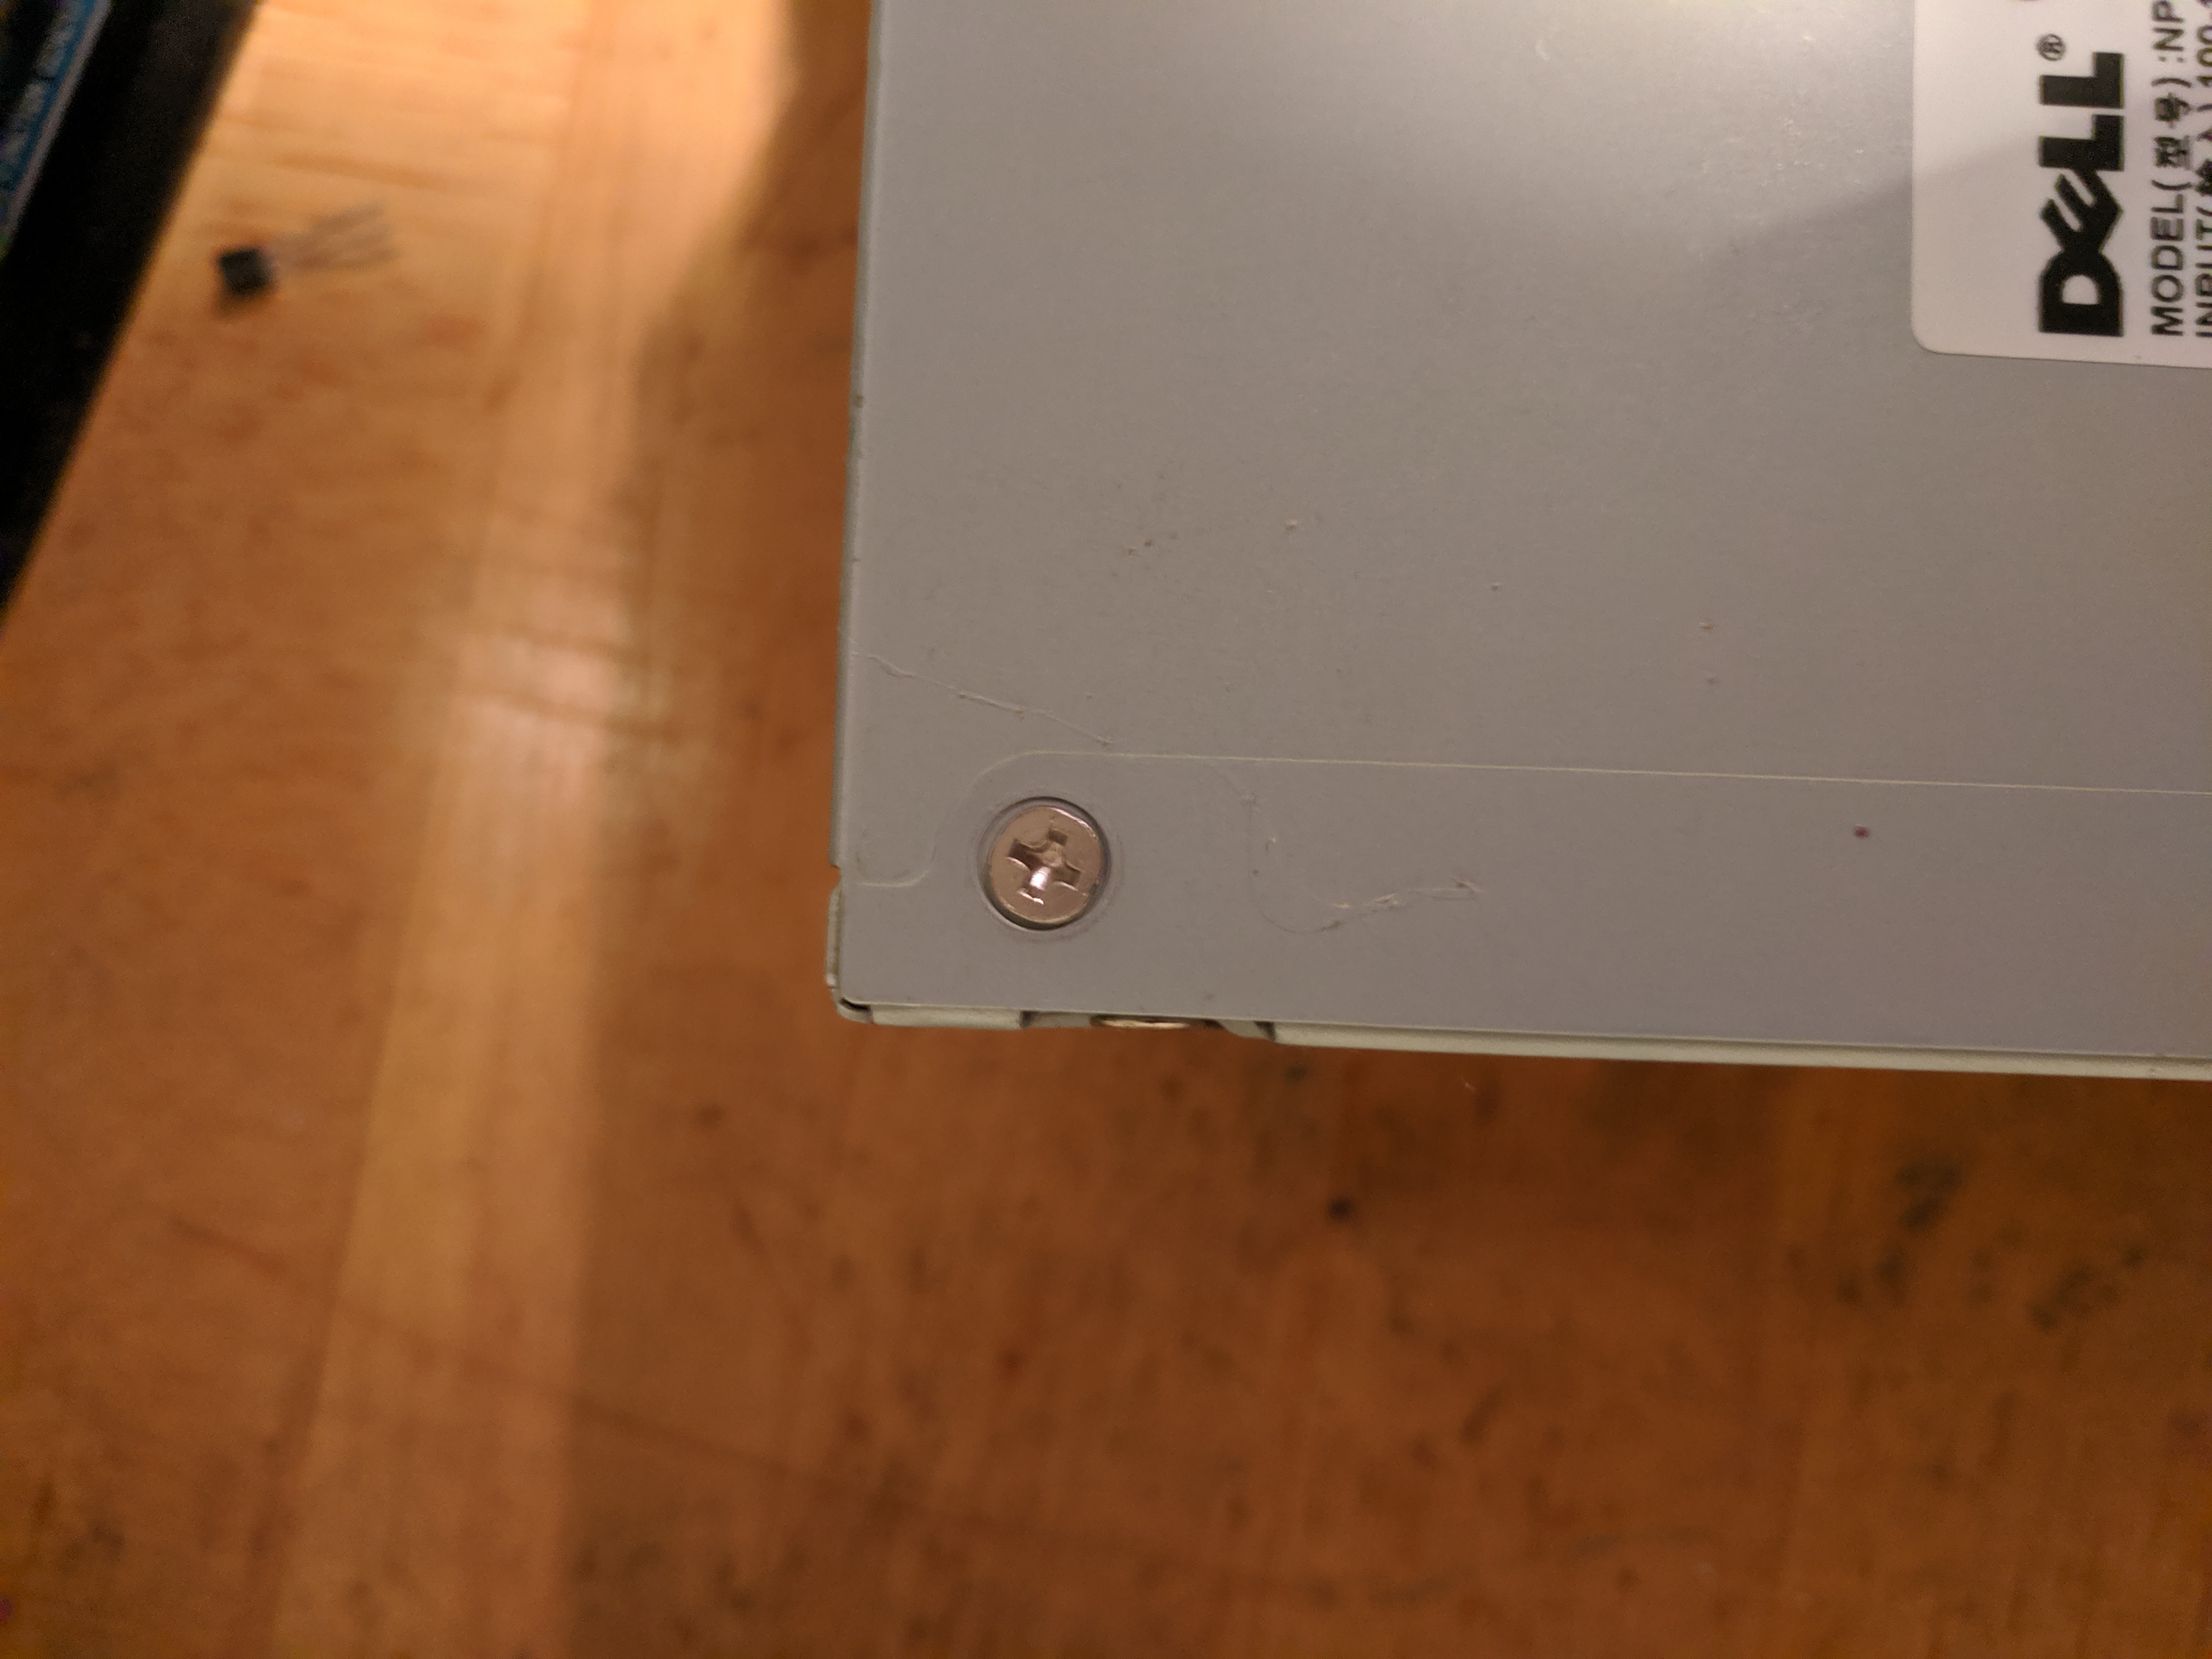cross_recessed_screw: (979, 788, 1108, 929)
